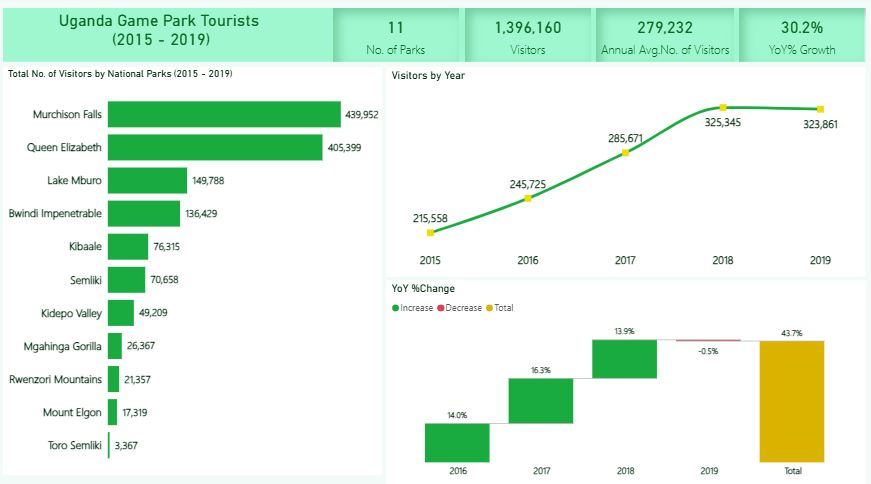

What the dashboard file says about the page in this screenshot:
{"tool":"powerbi","page":{"name":"Over View","canvas":[1280,720],"ordinal":0},"visuals":[{"type":"shape","box":[6.2,17.7,1266.2,79.2],"z":0},{"type":"lineChart","fields":{"Category":["Calendar.Year"],"Y":["FactTable.Total No. of Visitors"]},"box":[568.5,103.8,703.8,307.7],"z":1000},{"type":"barChart","title":"Total No. of Visitors  by National Parks (2015 - 2019)","fields":{"Category":["National Parks.National Parks"],"Y":["FactTable.Total No. of Visitors"]},"box":[6.2,103.8,556.9,600],"z":2000},{"type":"card","fields":{"Values":["FactTable.Total No. of Visitors"]},"box":[700.9,17.6,185.1,79.3],"z":3000},{"type":"card","fields":{"Values":["FactTable.Ave"]},"box":[889,17.6,196.9,79.3],"z":4000},{"type":"textbox","box":[6.2,17.7,500.8,79.2],"z":5000},{"type":"waterfallChart","title":"YoY %Change","fields":{"Category":["Calendar.Year"],"Y":["FactTable.YoY%Grrowth"]},"box":[568.5,417.7,704.6,302.3],"z":6000},{"type":"card","fields":{"Values":["FactTable.YoY%Grrowth"]},"box":[1086.7,17.8,185.6,78.9],"z":7000},{"type":"card","fields":{"Values":["National Parks.Parks"]},"box":[512.8,17.6,185.1,79.3],"z":8000}]}

Visuals, with their boxes in screenshot pixels (x1, y1, x2, y2), scaled from the page's 1280x720 canvas onto the 871x484 screenshot:
shape: (x1=4, y1=12, x2=866, y2=65)
lineChart - Calendar.Year x FactTable.Total No. of Visitors: (x1=387, y1=70, x2=866, y2=277)
"Total No. of Visitors  by National Parks (2015 - 2019)" barChart: (x1=4, y1=70, x2=383, y2=473)
card - FactTable.Total No. of Visitors: (x1=477, y1=12, x2=603, y2=65)
card - FactTable.Ave: (x1=605, y1=12, x2=739, y2=65)
textbox: (x1=4, y1=12, x2=345, y2=65)
"YoY %Change" waterfallChart: (x1=387, y1=281, x2=866, y2=483)
card - FactTable.YoY%Grrowth: (x1=739, y1=12, x2=866, y2=65)
card - National Parks.Parks: (x1=349, y1=12, x2=475, y2=65)
